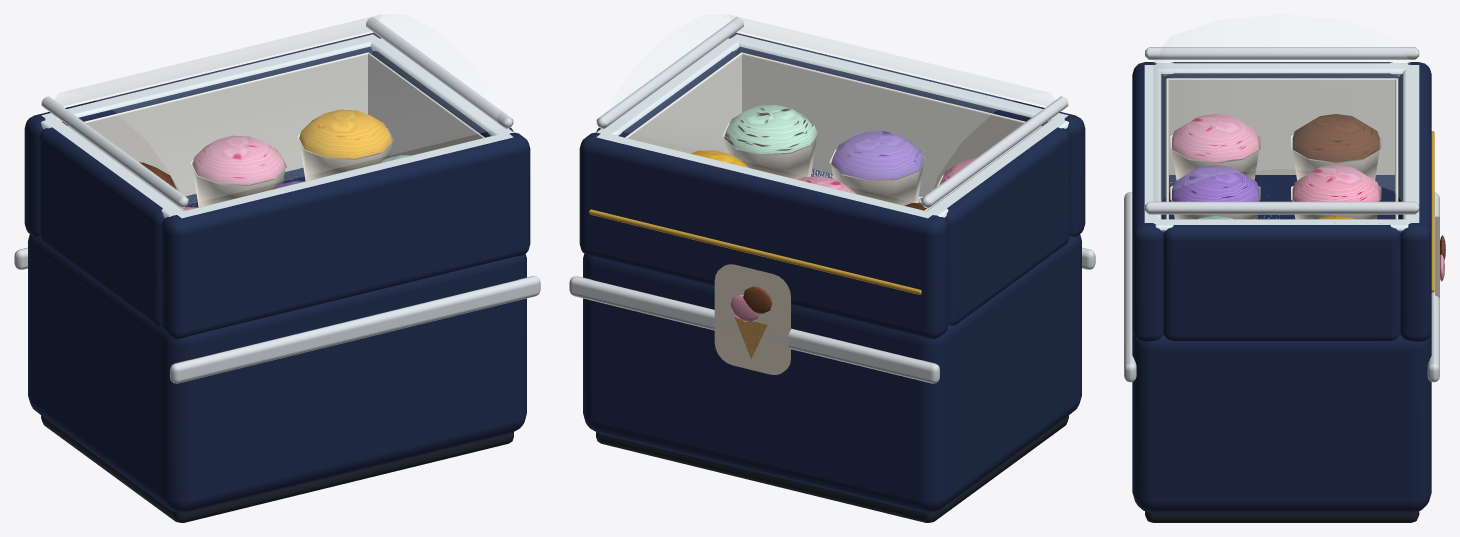
Rendered from icecream_T1.fbx.
3 views of the same model, side by side, from view 1: azimuth 30°, elevation 25°; view 2: azimuth 150°, elevation 25°; view 3: azimuth 270°, elevation 25° (orthographic). The views are drawn at different scales.
Parts seen in each view (by area): view 1: Body, Anim Fill 1, Anim Fill 0; view 2: Body, Anim Fill 0, Anim Fill 1; view 3: Body, Anim Fill 2, Anim Fill 1.
Part boxes in pixels (x1,y1,x2,y2): Body: (14,14,540,522); Anim Fill 1: (190,135,304,207); Anim Fill 0: (297,109,411,181); Body: (569,14,1095,522); Anim Fill 0: (691,105,818,179); Anim Fill 1: (798,131,925,205); Body: (1124,14,1445,522); Anim Fill 2: (1170,114,1381,180); Anim Fill 1: (1170,165,1381,219).
Bounding box in the file's own units: 1 × 0.94 × 0.774.
